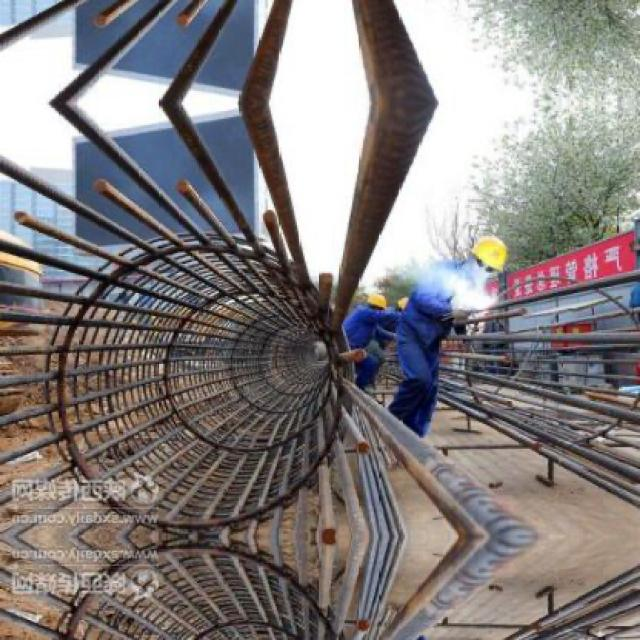helmet: (468, 235, 509, 278), (366, 293, 389, 319)
